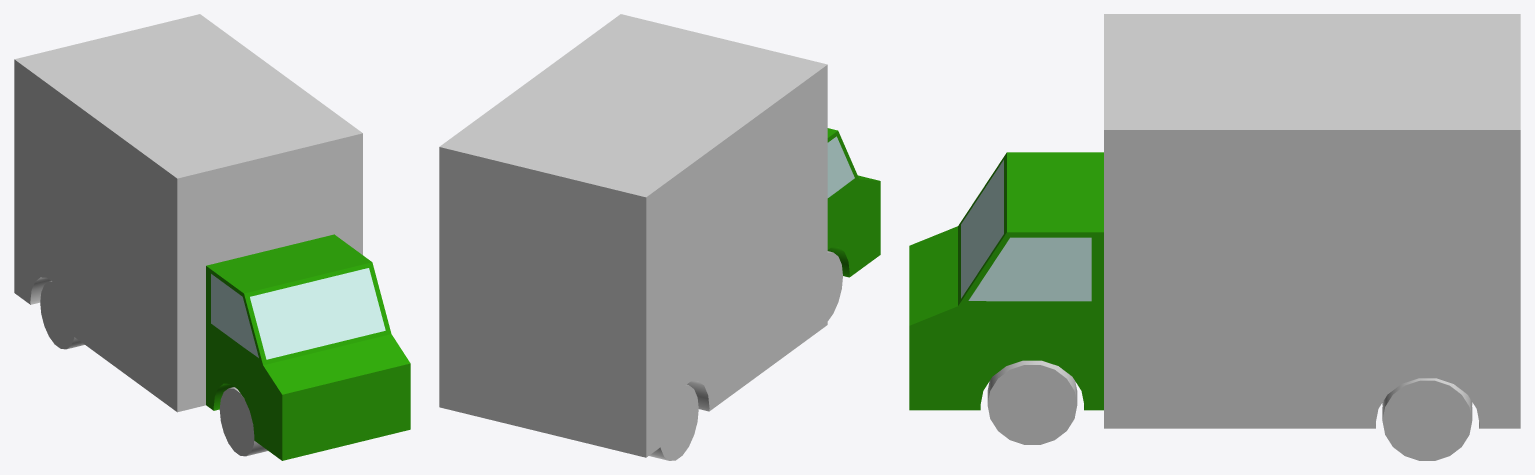
The model's file is Van.FBX.
The picture shows the model from 3 angles, left to right: view 1: azimuth 30°, elevation 25°; view 2: azimuth 150°, elevation 25°; view 3: azimuth 270°, elevation 25°; orthographic projection. The views are drawn at different scales.
Visible parts, largest first — view 1: Cylinder002, Cylinder001, Cylinder004, Cylinder008; view 2: Cylinder002, Cylinder001, Cylinder008, Cylinder004; view 3: Cylinder002, Cylinder001, Cylinder003, Cylinder007.
Part boxes in pixels (bbox=[...]): Cylinder002: bbox=[14, 14, 362, 412]; Cylinder001: bbox=[206, 234, 410, 460]; Cylinder004: bbox=[219, 387, 267, 456]; Cylinder008: bbox=[40, 281, 84, 349]; Cylinder002: bbox=[439, 14, 827, 457]; Cylinder001: bbox=[827, 128, 880, 277]; Cylinder008: bbox=[649, 384, 698, 460]; Cylinder004: bbox=[827, 251, 842, 320]; Cylinder002: bbox=[1104, 14, 1520, 428]; Cylinder001: bbox=[909, 152, 1103, 410]; Cylinder003: bbox=[987, 360, 1077, 444]; Cylinder007: bbox=[1382, 378, 1472, 460].
Size of the model in its own units: 58.09 by 78.39 by 130.
